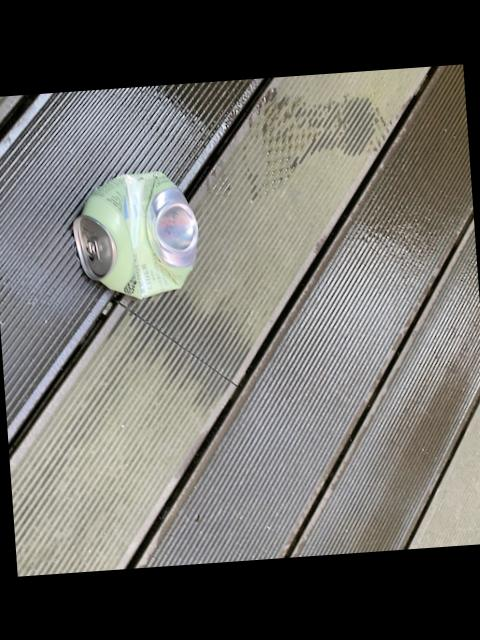metal: (73, 170, 198, 297)
